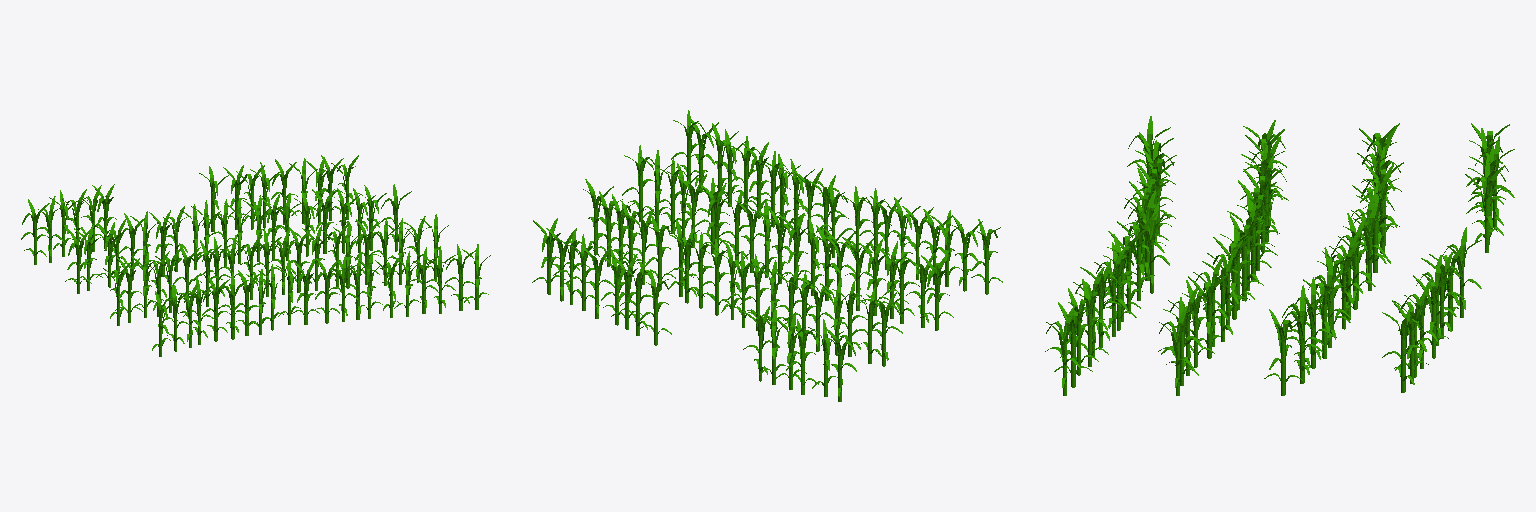
--- Facts derived from the render (not from the file) ---
Views: 3 orthographic renders of the robot side by side, from view 1: azimuth 30°, elevation 25°; view 2: azimuth 150°, elevation 25°; view 3: azimuth 270°, elevation 25°.
Robot: field — 79 links, 78 joints (78 fixed); root link dummy_link; default pose: all joints at 0.
Links seen in each view (by area): view 1: none; view 2: plant_3, plant_75, plant_51; view 3: plant_76, plant_72, plant_75, plant_21, plant_77, plant_78, plant_64, plant_54, plant_61, plant_74, plant_53, plant_60 (+9 smaller).
Boxes of the visible links, x1,y1,x2,y2 form: plant_3: (920, 255, 953, 330); plant_75: (532, 218, 565, 294); plant_51: (611, 254, 642, 329); plant_76: (1264, 309, 1302, 395); plant_72: (1281, 292, 1322, 383); plant_75: (1382, 305, 1425, 392); plant_21: (1465, 165, 1504, 252); plant_77: (1158, 306, 1195, 395); plant_78: (1045, 305, 1082, 395); plant_64: (1292, 277, 1334, 368); plant_54: (1094, 247, 1129, 336); plant_61: (1188, 274, 1228, 358); plant_74: (1054, 302, 1092, 387); plant_53: (1202, 254, 1245, 341); plant_60: (1303, 271, 1342, 358).
Bounding box of the posed robot: 3.31 × 3.18 × 0.6138 m (x, y, z).
Meshes: 1 distinct files referenced, 78 mesh visuals loaded (1 Collada DAE).

The robot description file, URDF, robot "field":
<?xml version="1.0"?> 
<robot name="field"> 
 <!-- auto generated urdf file --> 
 <link name="dummy_link"> 
  <inertial> 
   <origin xyz="0 0 0" /> 
   <mass value="5.0" /> 
   <inertia ixx="0.0" ixy="0.0" ixz="0.0" iyy="0.0" iyz="0.0" izz="0.0" /> 
  </inertial> 
  <visual> 
   <origin xyz="0 0 0" /> 
   <geometry> 
    <box size="0.00 0.00 0.00" /> 
   </geometry> 
  </visual> 
  <collision> 
   <origin xyz="0 0 0" /> 
   <geometry> 
    <box size="0.00 0.00 0.00" /> 
   </geometry> 
  </collision> 
 </link> 
 
 
 <!-- generate plants --> <link name="plant_1">
  <inertial>
   <origin xyz="0 0 0" /> 
   <mass value="5.0" />
   <inertia ixx="0.0" ixy="0.0" ixz="0.0" iyy="0.0" iyz="0.0" izz="0.0" />
  </inertial>
  <visual>
   <origin xyz="0 0 0"/>
   <geometry>
    <mesh filename="package://herbi_gazebo_worlds/ros/meshes/maizeplant.dae"/>
   </geometry>
  </visual>
  <collision>
   <origin xyz="0 0 0.2"/>
   <geometry>
    <cylinder length="0.4" radius="0.02"/>
   </geometry>
  </collision>
 </link>

 <joint name="joint_plant_1" type="fixed">
  <origin xyz="-0.002290 0.364183 0.000000" rpy="0.000000 0.000000 1.571008" />
  <parent link="dummy_link" />
  <child link="plant_1" />
 </joint>


 <link name="plant_2">
  <inertial>
   <origin xyz="0 0 0" /> 
   <mass value="5.0" />
   <inertia ixx="0.0" ixy="0.0" ixz="0.0" iyy="0.0" iyz="0.0" izz="0.0" />
  </inertial>
  <visual>
   <origin xyz="0 0 0"/>
   <geometry>
    <mesh filename="package://herbi_gazebo_worlds/ros/meshes/maizeplant.dae"/>
   </geometry>
  </visual>
  <collision>
   <origin xyz="0 0 0.2"/>
   <geometry>
    <cylinder length="0.4" radius="0.02"/>
   </geometry>
  </collision>
 </link>

 <joint name="joint_plant_2" type="fixed">
  <origin xyz="0.030535 -0.377070 0.000000" rpy="0.000000 0.000000 1.884049" />
  <parent link="dummy_link" />
  <child link="plant_2" />
 </joint>


 <link name="plant_3">
  <inertial>
   <origin xyz="0 0 0" /> 
   <mass value="5.0" />
   <inertia ixx="0.0" ixy="0.0" ixz="0.0" iyy="0.0" iyz="0.0" izz="0.0" />
  </inertial>
  <visual>
   <origin xyz="0 0 0"/>
   <geometry>
    <mesh filename="package://herbi_gazebo_worlds/ros/meshes/maizeplant.dae"/>
   </geometry>
  </visual>
  <collision>
   <origin xyz="0 0 0.2"/>
   <geometry>
    <cylinder length="0.4" radius="0.02"/>
   </geometry>
  </collision>
 </link>

 <joint name="joint_plant_3" type="fixed">
  <origin xyz="0.003315 -1.158200 0.000000" rpy="0.000000 0.000000 0.009769" />
  <parent link="dummy_link" />
  <child link="plant_3" />
 </joint>


 <link name="plant_4">
  <inertial>
   <origin xyz="0 0 0" /> 
   <mass value="5.0" />
   <inertia ixx="0.0" ixy="0.0" ixz="0.0" iyy="0.0" iyz="0.0" izz="0.0" />
  </inertial>
  <visual>
   <origin xyz="0 0 0"/>
   <geometry>
    <mesh filename="package://herbi_gazebo_worlds/ros/meshes/maizeplant.dae"/>
   </geometry>
  </visual>
  <collision>
   <origin xyz="0 0 0.2"/>
   <geometry>
    <cylinder length="0.4" radius="0.02"/>
   </geometry>
  </collision>
 </link>

 <joint name="joint_plant_4" type="fixed">
  <origin xyz="-0.000463 -1.934411 0.000000" rpy="0.000000 0.000000 3.063062" />
  <parent link="dummy_link" />
  <child link="plant_4" />
 </joint>


 <link name="plant_5">
  <inertial>
   <origin xyz="0 0 0" /> 
   <mass value="5.0" />
   <inertia ixx="0.0" ixy="0.0" ixz="0.0" iyy="0.0" iyz="0.0" izz="0.0" />
  </inertial>
  <visual>
   <origin xyz="0 0 0"/>
   <geometry>
    <mesh filename="package://herbi_gazebo_worlds/ros/meshes/maizeplant.dae"/>
   </geometry>
  </visual>
  <collision>
   <origin xyz="0 0 0.2"/>
   <geometry>
    <cylinder length="0.4" radius="0.02"/>
   </geometry>
  </collision>
 </link>

 <joint name="joint_plant_5" type="fixed">
  <origin xyz="0.142994 0.340417 0.000000" rpy="0.000000 0.000000 0.722328" />
  <parent link="dummy_link" />
  <child link="plant_5" />
 </joint>


 <link name="plant_6">
  <inertial>
   <origin xyz="0 0 0" /> 
   <mass value="5.0" />
   <inertia ixx="0.0" ixy="0.0" ixz="0.0" iyy="0.0" iyz="0.0" izz="0.0" />
  </inertial>
  <visual>
   <origin xyz="0 0 0"/>
   <geometry>
    <mesh filename="package://herbi_gazebo_worlds/ros/meshes/maizeplant.dae"/>
   </geometry>
  </visual>
  <collision>
   <origin xyz="0 0 0.2"/>
   <geometry>
    <cylinder length="0.4" radius="0.02"/>
   </geometry>
  </collision>
 </link>

 <joint name="joint_plant_6" type="fixed">
  <origin xyz="0.143202 -0.359106 0.000000" rpy="0.000000 0.000000 2.392607" />
  <parent link="dummy_link" />
  <child link="plant_6" />
 </joint>


 <link name="plant_7">
  <inertial>
   <origin xyz="0 0 0" /> 
   <mass value="5.0" />
   <inertia ixx="0.0" ixy="0.0" ixz="0.0" iyy="0.0" iyz="0.0" izz="0.0" />
  </inertial>
  <visual>
   <origin xyz="0 0 0"/>
   <geometry>
    <mesh filename="package://herbi_gazebo_worlds/ros/meshes/maizeplant.dae"/>
   </geometry>
  </visual>
  <collision>
   <origin xyz="0 0 0.2"/>
   <geometry>
    <cylinder length="0.4" radius="0.02"/>
   </geometry>
  </collision>
 </link>

 <joint name="joint_plant_7" type="fixed">
  <origin xyz="0.121940 -1.143918 0.000000" rpy="0.000000 0.000000 1.971046" />
  <parent link="dummy_link" />
  <child link="plant_7" />
 </joint>


 <link name="plant_8">
  <inertial>
   <origin xyz="0 0 0" /> 
   <mass value="5.0" />
   <inertia ixx="0.0" ixy="0.0" ixz="0.0" iyy="0.0" iyz="0.0" izz="0.0" />
  </inertial>
  <visual>
   <origin xyz="0 0 0"/>
   <geometry>
    <mesh filename="package://herbi_gazebo_worlds/ros/meshes/maizeplant.dae"/>
   </geometry>
  </visual>
  <collision>
   <origin xyz="0 0 0.2"/>
   <geometry>
    <cylinder length="0.4" radius="0.02"/>
   </geometry>
  </collision>
 </link>

 <joint name="joint_plant_8" type="fixed">
  <origin xyz="0.178488 -1.898344 0.000000" rpy="0.000000 0.000000 1.311705" />
  <parent link="dummy_link" />
  <child link="plant_8" />
 </joint>


 <link name="plant_9">
  <inertial>
   <origin xyz="0 0 0" /> 
   <mass value="5.0" />
   <inertia ixx="0.0" ixy="0.0" ixz="0.0" iyy="0.0" iyz="0.0" izz="0.0" />
  </inertial>
  <visual>
   <origin xyz="0 0 0"/>
   <geometry>
    <mesh filename="package://herbi_gazebo_worlds/ros/meshes/maizeplant.dae"/>
   </geometry>
  </visual>
  <collision>
   <origin xyz="0 0 0.2"/>
   <geometry>
    <cylinder length="0.4" radius="0.02"/>
   </geometry>
  </collision>
 </link>

 <joint name="joint_plant_9" type="fixed">
  <origin xyz="0.315813 0.400267 0.000000" rpy="0.000000 0.000000 2.911124" />
  <parent link="dummy_link" />
  <child link="plant_9" />
 </joint>


 <link name="plant_10">
  <inertial>
   <origin xyz="0 0 0" /> 
   <mass value="5.0" />
   <inertia ixx="0.0" ixy="0.0" ixz="0.0" iyy="0.0" iyz="0.0" izz="0.0" />
  </inertial>
  <visual>
   <origin xyz="0 0 0"/>
   <geometry>
    <mesh filename="package://herbi_gazebo_worlds/ros/meshes/maizeplant.dae"/>
   </geometry>
  </visual>
  <collision>
   <origin xyz="0 0 0.2"/>
   <geometry>
    <cylinder length="0.4" radius="0.02"/>
   </geometry>
  </collision>
 </link>

 <joint name="joint_plant_10" type="fixed">
  <origin xyz="0.348682 -0.393159 0.000000" rpy="0.000000 0.000000 2.369821" />
  <parent link="dummy_link" />
  <child link="plant_10" />
 </joint>


 <link name="plant_11">
  <inertial>
   <origin xyz="0 0 0" /> 
   <mass value="5.0" />
   <inertia ixx="0.0" ixy="0.0" ixz="0.0" iyy="0.0" iyz="0.0" izz="0.0" />
  </inertial>
  <visual>
   <origin xyz="0 0 0"/>
   <geometry>
    <mesh filename="package://herbi_gazebo_worlds/ros/meshes/maizeplant.dae"/>
   </geometry>
  </visual>
  <collision>
   <origin xyz="0 0 0.2"/>
   <geometry>
    <cylinder length="0.4" radius="0.02"/>
   </geometry>
  </collision>
 </link>

 <joint name="joint_plant_11" type="fixed">
  <origin xyz="0.303612 -1.128318 0.000000" rpy="0.000000 0.000000 2.517615" />
  <parent link="dummy_link" />
  <child link="plant_11" />
 </joint>


 <link name="plant_12">
  <inertial>
   <origin xyz="0 0 0" /> 
   <mass value="5.0" />
   <inertia ixx="0.0" ixy="0.0" ixz="0.0" iyy="0.0" iyz="0.0" izz="0.0" />
  </inertial>
  <visual>
   <origin xyz="0 0 0"/>
   <geometry>
    <mesh filename="package://herbi_gazebo_worlds/ros/meshes/maizeplant.dae"/>
   </geometry>
  </visual>
  <collision>
   <origin xyz="0 0 0.2"/>
   <geometry>
    <cylinder length="0.4" radius="0.02"/>
   </geometry>
  </collision>
 </link>

 <joint name="joint_plant_12" type="fixed">
  <origin xyz="0.334778 -1.898251 0.000000" rpy="0.000000 0.000000 0.447604" />
  <parent link="dummy_link" />
  <child link="plant_12" />
 </joint>


 <link name="plant_13">
  <inertial>
   <origin xyz="0 0 0" /> 
   <mass value="5.0" />
   <inertia ixx="0.0" ixy="0.0" ixz="0.0" iyy="0.0" iyz="0.0" izz="0.0" />
  </inertial>
  <visual>
   <origin xyz="0 0 0"/>
   <geometry>
    <mesh filename="package://herbi_gazebo_worlds/ros/meshes/maizeplant.dae"/>
   </geometry>
  </visual>
  <collision>
   <origin xyz="0 0 0.2"/>
   <geometry>
    <cylinder length="0.4" radius="0.02"/>
   </geometry>
  </collision>
 </link>

 <joint name="joint_plant_13" type="fixed">
  <origin xyz="0.440604 0.362380 0.000000" rpy="0.000000 0.000000 0.365034" />
  <parent link="dummy_link" />
  <child link="plant_13" />
 </joint>


 <link name="plant_14">
  <inertial>
   <origin xyz="0 0 0" /> 
   <mass value="5.0" />
   <inertia ixx="0.0" ixy="0.0" ixz="0.0" iyy="0.0" iyz="0.0" izz="0.0" />
  </inertial>
  <visual>
   <origin xyz="0 0 0"/>
   <geometry>
    <mesh filename="package://herbi_gazebo_worlds/ros/meshes/maizeplant.dae"/>
   </geometry>
  </visual>
  <collision>
   <origin xyz="0 0 0.2"/>
   <geometry>
    <cylinder length="0.4" radius="0.02"/>
   </geometry>
  </collision>
 </link>

 <joint name="joint_plant_14" type="fixed">
  <origin xyz="0.447165 -0.367612 0.000000" rpy="0.000000 0.000000 0.396790" />
  <parent link="dummy_link" />
  <child link="plant_14" />
 </joint>


 <link name="plant_15">
  <inertial>
   <origin xyz="0 0 0" /> 
   <mass value="5.0" />
   <inertia ixx="0.0" ixy="0.0" ixz="0.0" iyy="0.0" iyz="0.0" izz="0.0" />
  </inertial>
  <visual>
   <origin xyz="0 0 0"/>
   <geometry>
    <mesh filename="package://herbi_gazebo_worlds/ros/meshes/maizeplant.dae"/>
   </geometry>
  </visual>
  <collision>
   <origin xyz="0 0 0.2"/>
   <geometry>
    <cylinder length="0.4" radius="0.02"/>
   </geometry>
  </collision>
 </link>

 <joint name="joint_plant_15" type="fixed">
  <origin xyz="0.417992 -1.175468 0.000000" rpy="0.000000 0.000000 0.284061" />
  <parent link="dummy_link" />
  <child link="plant_15" />
 </joint>


 <link name="plant_16">
  <inertial>
   <origin xyz="0 0 0" /> 
   <mass value="5.0" />
   <inertia ixx="0.0" ixy="0.0" ixz="0.0" iyy="0.0" iyz="0.0" izz="0.0" />
  </inertial>
  <visual>
   <origin xyz="0 0 0"/>
   <geometry>
    <mesh filename="package://herbi_gazebo_worlds/ros/meshes/maizeplant.dae"/>
   </geometry>
  </visual>
  <collision>
   <origin xyz="0 0 0.2"/>
   <geometry>
    <cylinder length="0.4" radius="0.02"/>
   </geometry>
  </collision>
 </link>

 <joint name="joint_plant_16" type="fixed">
  <origin xyz="0.440794 -1.879420 0.000000" rpy="0.000000 0.000000 1.240507" />
  <parent link="dummy_link" />
  <child link="plant_16" />
 </joint>


 <link name="plant_17">
  <inertial>
   <origin xyz="0 0 0" /> 
   <mass value="5.0" />
   <inertia ixx="0.0" ixy="0.0" ixz="0.0" iyy="0.0" iyz="0.0" izz="0.0" />
  </inertial>
  <visual>
   <origin xyz="0 0 0"/>
   <geometry>
    <mesh filename="package://herbi_gazebo_worlds/ros/meshes/maizeplant.dae"/>
   </geometry>
  </visual>
  <collision>
   <origin xyz="0 0 0.2"/>
   <geometry>
    <cylinder length="0.4" radius="0.02"/>
   </geometry>
  </collision>
 </link>

 <joint name="joint_plant_17" type="fixed">
  <origin xyz="0.605624 0.349261 0.000000" rpy="0.000000 0.000000 0.518780" />
  <parent link="dummy_link" />
  <child link="plant_17" />
 </joint>


 <link name="plant_18">
  <inertial>
   <origin xyz="0 0 0" /> 
   <mass value="5.0" />
   <inertia ixx="0.0" ixy="0.0" ixz="0.0" iyy="0.0" iyz="0.0" izz="0.0" />
  </inertial>
  <visual>
   <origin xyz="0 0 0"/>
   <geometry>
    <mesh filename="package://herbi_gazebo_worlds/ros/meshes/maizeplant.dae"/>
   </geometry>
  </visual>
  <collision>
   <origin xyz="0 0 0.2"/>
   <geometry>
    <cylinder length="0.4" radius="0.02"/>
   </geometry>
  </collision>
 </link>

 <joint name="joint_plant_18" type="fixed">
  <origin xyz="0.615291 -0.353090 0.000000" rpy="0.000000 0.000000 1.627948" />
  <parent link="dummy_link" />
  <child link="plant_18" />
 </joint>


 <link name="plant_19">
  <inertial>
   <origin xyz="0 0 0" /> 
   <mass value="5.0" />
   <inertia ixx="0.0" ixy="0.0" ixz="0.0" iyy="0.0" iyz="0.0" izz="0.0" />
  </inertial>
  <visual>
   <origin xyz="0 0 0"/>
   <geometry>
    <mesh filename="package://herbi_gazebo_worlds/ros/meshes/maizeplant.dae"/>
   </geometry>
  </visual>
  <collision>
   <origin xyz="0 0 0.2"/>
   <geometry>
    <cylinder length="0.4" radius="0.02"/>
   </geometry>
  </collision>
 </link>

 <joint name="joint_plant_19" type="fixed">
  <origin xyz="0.557977 -1.145580 0.000000" rpy="0.000000 0.000000 0.175716" />
  <parent link="dummy_link" />
  <child link="plant_19" />
 </joint>


 <link name="plant_20">
  <inertial>
   <origin xyz="0 0 0" /> 
   <mass value="5.0" />
   <inertia ixx="0.0" ixy="0.0" ixz="0.0" iyy="0.0" iyz="0.0" izz="0.0" />
  </inertial>
  <visual>
   <origin xyz="0 0 0"/>
   <geometry>
    <mesh filename="package://herbi_gazebo_worlds/ros/meshes/maizeplant.dae"/>
   </geometry>
  </visual>
  <collision>
   <origin xyz="0 0 0.2"/>
   <geometry>
    <cylinder length="0.4" radius="0.02"/>
   </geometry>
  </collision>
 </link>

 <joint name="joint_plant_20" type="fixed">
  <origin xyz="0.604842 -1.899324 0.000000" rpy="0.000000 0.000000 1.608729" />
  <parent link="dummy_link" />
  <child link="plant_20" />
 </joint>


 <link name="plant_21">
  <inertial>
   <origin xyz="0 0 0" /> 
   <mass value="5.0" />
   <inertia ixx="0.0" ixy="0.0" ixz="0.0" iyy="0.0" iyz="0.0" izz="0.0" />
  </inertial>
  <visual>
   <origin xyz="0 0 0"/>
   <geometry>
    <mesh filename="package://herbi_gazebo_worlds/ros/meshes/maizeplant.dae"/>
   </geometry>
  </visual>
  <collision>
   <origin xyz="0 0 0.2"/>
   <geometry>
    <cylinder length="0.4" radius="0.02"/>
   </geometry>
  </collision>
 </link>

 <joint name="joint_plant_21" type="fixed">
  <origin xyz="0.729188 0.344576 0.000000" rpy="0.000000 0.000000 2.103738" />
  <parent link="dummy_link" />
  <child link="plant_21" />
 </joint>


 <link name="plant_22">
  <inertial>
   <origin xyz="0 0 0" /> 
   <mass value="5.0" />
   <inertia ixx="0.0" ixy="0.0" ixz="0.0" iyy="0.0" iyz="0.0" izz="0.0" />
  </inertial>
  <visual>
   <origin xyz="0 0 0"/>
   <geometry>
    <mesh filename="package://herbi_gazebo_worlds/ros/meshes/maizeplant.dae"/>
   </geometry>
  </visual>
  <collision>
   <origin xyz="0 0 0.2"/>
   <geometry>
    <cylinder length="0.4" radius="0.02"/>
   </geometry>
  </collision>
 </link>

 <joint name="joint_plant_22" type="fixed">
  <origin xyz="0.741063 -0.360834 0.000000" rpy="0.000000 0.000000 2.548968" />
  <parent link="dummy_link" />
  <child link="plant_22" />
 </joint>


 <link name="plant_23">
  <inertial>
   <origin xyz="0 0 0" /> 
   <mass value="5.0" />
   <inertia ixx="0.0" ixy="0.0" ixz="0.0" iyy="0.0" iyz="0.0" izz="0.0" />
  </inertial>
  <visual>
   <origin xyz="0 0 0"/>
   <geometry>
    <mesh filename="package://herbi_gazebo_worlds/ros/meshes/maizeplant.dae"/>
   </geometry>
  </visual>
  <collision>
   <origin xyz="0 0 0.2"/>
   <geometry>
    <cylinder length="0.4" radius="0.02"/>
   </geometry>
  </collision>
 </link>

 <joint name="joint_plant_23" type="fixed">
  <origin xyz="0.721103 -1.169033 0.000000" rpy="0.000000 0.000000 1.622637" />
  <parent link="dummy_link" />
  <child link="plant_23" />
 </joint>


 <link name="plant_24">
  <inertial>
   <origin xyz="0 0 0" /> 
   <mass value="5.0" />
   <inertia ixx="0.0" ixy="0.0" ixz="0.0" iyy="0.0" iyz="0.0" izz="0.0" />
  </inertial>
  <visual>
   <origin xyz="0 0 0"/>
   <geometry>
    <mesh filename="package://herbi_gazebo_worlds/ros/meshes/maizeplant.dae"/>
   </geometry>
  </visual>
  <collision>
   <origin xyz="0 0 0.2"/>
   <geometry>
    <cylinder length="0.4" radius="0.02"/>
   </geometry>
  </collision>
 </link>

 <joint name="joint_plant_24" type="fixed">
  <origin xyz="0.762785 -1.936334 0.000000" rpy="0.000000 0.000000 1.070853" />
  <parent link="dummy_link" />
  <child link="plant_24" />
 </joint>


 <link name="plant_25">
  <inertial>
   <origin xyz="0 0 0" /> 
   <mass value="5.0" />
   <inertia ixx="0.0" ixy="0.0" ixz="0.0" iyy="0.0" iyz="0.0" izz="0.0" />
  </inertial>
  <visual>
   <origin xyz="0 0 0"/>
   <geometry>
    <mesh filename="package://herbi_gazebo_worlds/ros/meshes/maizeplant.dae"/>
   </geometry>
  </visual>
  <collision>
   <origin xyz="0 0 0.2"/>
   <geometry>
    <cylinder length="0.4" radius="0.02"/>
   </geometry>
  </collision>
 </link>

 <joint name="joint_plant_25" type="fixed">
  <origin xyz="0.895786 -0.420655 0.000000" rpy="0.000000 0.000000 2.175998" />
  <parent link="dummy_link" />
  <child link="plant_25" />
 </joint>


 <link name="plant_26">
  <inertial>
   <origin xyz="0 0 0" /> 
   <mass value="5.0" />
   <inertia ixx="0.0" ixy="0.0" ixz="0.0" iyy="0.0" iyz="0.0" izz="0.0" />
  </inertial>
  <visual>
   <origin xyz="0 0 0"/>
   <geometry>
    <mesh filename="package://herbi_gazebo_worlds/ros/meshes/maizeplant.dae"/>
   </geometry>
  </visual>
  <collision>
   <origin xyz="0 0 0.2"/>
   <geometry>
    <cylinder length="0.4" radius="0.02"/>
   </geometry>
  </collision>
 </link>

 <joint name="joint_plant_26" type="fixed">
  <origin xyz="0.915495 -1.209445 0.000000" rpy="0.000000 0.000000 1.559610" />
  <parent link="dummy_link" />
  <child link="plant_26" />
 </joint>


 <link name="plant_27">
  <inertial>
   <origin xyz="0 0 0" /> 
   <mass value="5.0" />
   <inertia ixx="0.0" ixy="0.0" ixz="0.0" iyy="0.0" iyz="0.0" izz="0.0" />
  </inertial>
  <visual>
   <origin xyz="0 0 0"/>
   <geometry>
    <mesh filename="package://herbi_gazebo_worlds/ros/meshes/maizeplant.dae"/>
   </geometry>
  </visual>
  <collision>
   <origin xyz="0 0 0.2"/>
   <geometry>
    <cylinder length="0.4" radius="0.02"/>
   </geometry>
  </collision>
 </link>

 <joint name="joint_plant_27" type="fixed">
  <origin xyz="0.909576 -1.939668 0.000000" rpy="0.000000 0.000000 1.661658" />
  <parent link="dummy_link" />
  <child link="plant_27" />
 </joint>


 <link name="plant_28">
  <inertial>
   <origin xyz="0 0 0" /> 
   <mass value="5.0" />
   <inertia ixx="0.0" ixy="0.0" ixz="0.0" iyy="0.0" iyz="0.0" izz="0.0" />
  </inertial>
  <visual>
   <origin xyz="0 0 0"/>
   <geometry>
    <mesh filename="package://herbi_gazebo_worlds/ros/meshes/maizeplant.dae"/>
   </geometry>
  </visual>
  <collision>
   <origin xyz="0 0 0.2"/>
   <geometry>
    <cylinder length="0.4" radius="0.02"/>
   </geometry>
  </collision>
 </link>

 <joint name="joint_plant_28" type="fixed">
  <origin xyz="1.049773 -0.408582 0.000000" rpy="0.000000 0.000000 0.467684" />
  <parent link="dummy_link" />
  <child link="plant_28" />
 </joint>


 <link name="plant_29">
  <inertial>
   <origin xyz="0 0 0" /> 
   <mass value="5.0" />
   <inertia ixx="0.0" ixy="0.0" ixz="0.0" iyy="0.0" iyz="0.0" izz="0.0" />
  </inertial>
  <visual>
   <origin xyz="0 0 0"/>
   <geometry>
    <mesh filename="package://herbi_gazebo_worlds/ros/meshes/maizeplant.dae"/>
   </geometry>
  </visual>
  <collision>
   <origin xyz="0 0 0.2"/>
   <geometry>
    <cylinder length="0.4" radius="0.02"/>
   </geometry>
  </collision>
 </link>

 <joint name="joint_plant_29" type="fixed">
  <origin xyz="1.020310 -1.200255 0.000000" rpy="0.000000 0.000000 1.246089" />
  <parent link="dummy_link" />
  <child link="plant_29" />
 </joint>


 <link name="plant_30">
  <inertial>
   <origin xyz="0 0 0" /> 
   <mass value="5.0" />
   <inertia ixx="0.0" ixy="0.0" ixz="0.0" iyy="0.0" iyz="0.0" izz="0.0" />
  </inertial>
  <visual>
   <origin xyz="0 0 0"/>
   <geometry>
    <mesh filename="package://herbi_gazebo_worlds/ros/meshes/maizeplant.dae"/>
   </geometry>
  </visual>
  <collision>
   <origin xyz="0 0 0.2"/>
   <geometry>
    <cylinder length="0.4" radius="0.02"/>
   </geometry>
  </collision>
 </link>

 <joint name="joint_plant_30" type="fixed">
  <origin xyz="1.030362 -1.981138 0.000000" rpy="0.000000 0.000000 2.625610" />
  <parent link="dummy_link" />
  <child link="plant_30" />
 </joint>


 <link name="plant_31">
  <inertial>
   <origin xyz="0 0 0" /> 
   <mass value="5.0" />
   <inertia ixx="0.0" ixy="0.0" ixz="0.0" iyy="0.0" iyz="0.0" izz="0.0" />
  </inertial>
  <visual>
   <origin xyz="0 0 0"/>
   <geometry>
    <mesh filename="package://herbi_gazebo_worlds/ros/meshes/maizeplant.dae"/>
   </geometry>
  </visual>
  <collision>
   <origin xyz="0 0 0.2"/>
   <geometry>
    <cylinder length="0.4" radius="0.02"/>
   </geometry>
  </collision>
 </link>

 <joint name="joint_plant_31" type="fixed">
  <origin xyz="1.215169 -0.458499 0.000000" rpy="0.000000 0.000000 2.762630" />
  <parent link="dummy_link" />
  <child link="plant_31" />
 </joint>


 <link name="plant_32">
  <inertial>
   <origin xyz="0 0 0" /> 
   <mass value="5.0" />
   <inertia ixx="0.0" ixy="0.0" ixz="0.0" iyy="0.0" iyz="0.0" izz="0.0" />
  </inertial>
  <visual>
   <origin xyz="0 0 0"/>
   <geometry>
    <mesh filename="package://herbi_gazebo_worlds/ros/meshes/maizeplant.dae"/>
   </geometry>
  </visual>
  <collision>
   <origin xyz="0 0 0.2"/>
   <geometry>
    <cylinder length="0.4" radius="0.02"/>
   </geometry>
  </collision>
 </link>

 <joint name="joint_plant_32" type="fixed">
  <origin xyz="1.165174 -1.233503 0.000000" rpy="0.000000 0.000000 0.814444" />
  <parent link="dummy_link" />
  <child link="plant_32" />
 </joint>


 <link name="plant_33">
  <inertial>
   <origin xyz="0 0 0" /> 
   <mass value="5.0" />
   <inertia ixx="0.0" ixy="0.0" ixz="0.0" iyy="0.0" iyz="0.0" izz="0.0" />
  </inertial>
  <visual>
   <origin xyz="0 0 0"/>
   <geometry>
    <mesh filename="package://herbi_gazebo_worlds/ros/meshes/maizeplant.dae"/>
   </geometry>
  </visual>
  <collision>
   <origin xyz="0 0 0.2"/>
   <geometry>
    <cylinder length="0.4" radius="0.02"/>
   </geometry>
  </collision>
 </link>

 <joint name="joint_plant_33" type="fixed">
  <origin xyz="1.175471 -1.947902 0.000000" rpy="0.000000 0.000000 2.724098" />
  <parent link="dummy_link" />
  <child link="plant_33" />
 </joint>


 <link name="plant_34">
  <inertial>
   <origin xyz="0 0 0" /> 
   <mass value="5.0" />
   <inertia ixx="0.0" ixy="0.0" ixz="0.0" iyy="0.0" iyz="0.0" izz="0.0" />
  </inertial>
  <visual>
   <origin xyz="0 0 0"/>
   <geometry>
    <mesh filename="package://herbi_gazebo_worlds/ros/meshes/maizeplant.dae"/>
   </geometry>
  </visual>
  <collision>
   <origin xyz="0 0 0.2"/>
   <geometry>
    <cylinder length="0.4" radius="0.02"/>
   </geometry>
  </collision>
 </link>

 <joint name="joint_plant_34" type="fixed">
  <origin xyz="1.340194 -0.446954 0.000000" rpy="0.000000 0.000000 2.704223" />
  <parent link="dummy_link" />
  <child link="plant_34" />
 </joint>


 <link name="plant_35">
  <inertial>
   <origin xyz="0 0 0" /> 
   <mass value="5.0" />
   <inertia ixx="0.0" ixy="0.0" ixz="0.0" iyy="0.0" iyz="0.0" izz="0.0" />
  </inertial>
  <visual>
   <origin xyz="0 0 0"/>
   <geometry>
    <mesh filename="package://herbi_gazebo_worlds/ros/meshes/maizeplant.dae"/>
   </geometry>
  </visual>
  <collision>
   <origin xyz="0 0 0.2"/>
   <geometry>
    <cylinder length="0.4" radius="0.02"/>
   </geometry>
  </collision>
 </link>

 <joint name="joint_plant_35" type="fixed">
  <origin xyz="1.339344 -1.270822 0.000000" rpy="0.000000 0.000000 0.149042" />
  <parent link="dummy_link" />
  <child link="plant_35" />
 </joint>


 <link name="plant_36">
  <inertial>
   <origin xyz="0 0 0" /> 
   <mass value="5.0" />
   <inertia ixx="0.0" ixy="0.0" ixz="0.0" iyy="0.0" iyz="0.0" izz="0.0" />
  </inertial>
  <visual>
   <origin xyz="0 0 0"/>
   <geometry>
    <mesh filename="package://herbi_gazebo_worlds/ros/meshes/maizeplant.dae"/>
   </geometry>
  </visual>
  <collision>
   <origin xyz="0 0 0.2"/>
   <geometry>
    <cylinder length="0.4" radius="0.02"/>
   </geometry>
  </collision>
 </link>

 <joint name="joint_plant_36" type="fixed">
  <origin xyz="1.375510 -1.916971 0.000000" rpy="0.000000 0.000000 2.785297" />
  <parent link="dummy_link" />
  <child link="plant_36" />
 </joint>


 <link name="plant_37">
  <inertial>
   <origin xyz="0 0 0" /> 
   <mass value="5.0" />
   <inertia ixx="0.0" ixy="0.0" ixz="0.0" iyy="0.0" iyz="0.0" izz="0.0" />
  </inertial>
  <visual>
   <origin xyz="0 0 0"/>
   <geometry>
    <mesh filename="package://herbi_gazebo_worlds/ros/meshes/maizeplant.dae"/>
   </geometry>
  </visual>
  <collision>
   <origin xyz="0 0 0.2"/>
   <geometry>
    <cylinder length="0.4" radius="0.02"/>
   </geometry>
  </collision>
 </link>

 <joint name="joint_plant_37" type="fixed">
  <origin xyz="1.490331 -0.533503 0.000000" rpy="0.000000 0.000000 0.953732" />
  <parent link="dummy_link" />
  <child link="plant_37" />
 </joint>


 <link name="plant_38">
  <inertial>
   <origin xyz="0 0 0" /> 
   <mass value="5.0" />
   <inertia ixx="0.0" ixy="0.0" ixz="0.0" iyy="0.0" iyz="0.0" izz="0.0" />
  </inertial>
  <visual>
   <origin xyz="0 0 0"/>
   <geometry>
    <mesh filename="package://herbi_gazebo_worlds/ros/meshes/maizeplant.dae"/>
   </geometry>
  </visual>
  <collision>
   <origin xyz="0 0 0.2"/>
   <geometry>
    <cylinder length="0.4" radius="0.02"/>
   </geometry>
  </collision>
 </link>

 <joint name="joint_plant_38" type="fixed">
  <origin xyz="1.498424 -1.293199 0.000000" rpy="0.000000 0.000000 1.235331" />
  <parent link="dummy_link" />
  <child link="plant_38" />
 </joint>


 <link name="plant_39">
  <inertial>
   <origin xyz="0 0 0" /> 
   <mass value="5.0" />
   <inertia ixx="0.0" ixy="0.0" ixz="0.0" iyy="0.0" iyz="0.0" izz="0.0" />
  </inertial>
  <visual>
   <origin xyz="0 0 0"/>
   <geometry>
    <mesh filename="package://herbi_gazebo_worlds/ros/meshes/maizeplant.dae"/>
   </geometry>
  </visual>
  <collision>
   <origin xyz="0 0 0.2"/>
   <geometry>
    <cylinder length="0.4" radius="0.02"/>
   </geometry>
  </collision>
 </link>

 <joint name="joint_plant_39" type="fixed">
  <origin xyz="1.496619 -2.005838 0.000000" rpy="0.000000 0.000000 2.068800" />
  <parent link="dummy_link" />
  <child link="plant_39" />
 </joint>


 <link name="plant_40">
  <inertial>
   <origin xyz="0 0 0" /> 
   <mass value="5.0" />
   <inertia ixx="0.0" ixy="0.0" ixz="0.0" iyy="0.0" iyz="0.0" izz="0.0" />
  </inertial>
  <visual>
   <origin xyz="0 0 0"/>
   <geometry>
    <mesh filename="package://herbi_gazebo_worlds/ros/meshes/maizeplant.dae"/>
   </geometry>
  </visual>
  <collision>
   <origin xyz="0 0 0.2"/>
   <geometry>
    <cylinder length="0.4" radius="0.02"/>
   </geometry>
  </collision>
 </link>

 <joint name="joint_plant_40" type="fixed">
  <origin xyz="1.633504 -0.544368 0.000000" rpy="0.000000 0.000000 2.683734" />
  <parent link="dummy_link" />
  <child link="plant_40" />
 </joint>


 <link name="plant_41">
  <inertial>
   <origin xyz="0 0 0" /> 
   <mass value="5.0" />
   <inertia ixx="0.0" ixy="0.0" ixz="0.0" iyy="0.0" iyz="0.0" izz="0.0" />
  </inertial>
  <visual>
   <origin xyz="0 0 0"/>
   <geometry>
    <mesh filename="package://herbi_gazebo_worlds/ros/meshes/maizeplant.dae"/>
   </geometry>
  </visual>
  <collision>
   <origin xyz="0 0 0.2"/>
   <geometry>
    <cylinder length="0.4" radius="0.02"/>
   </geometry>
  </collision>
 </link>

 <joint name="joint_plant_41" type="fixed">
  <origin xyz="1.646429 -1.338775 0.000000" rpy="0.000000 0.000000 0.632115" />
  <parent link="dummy_link" />
  <child link="plant_41" />
 </joint>


 <link name="plant_42">
  <inertial>
   <origin xyz="0 0 0" /> 
   <mass value="5.0" />
   <inertia ixx="0.0" ixy="0.0" ixz="0.0" iyy="0.0" iyz="0.0" izz="0.0" />
  </inertial>
  <visual>
   <origin xyz="0 0 0"/>
   <geometry>
    <mesh filename="package://herbi_gazebo_worlds/ros/meshes/maizeplant.dae"/>
   </geometry>
  </visual>
  <collision>
   <origin xyz="0 0 0.2"/>
   <geometry>
    <cylinder length="0.4" radius="0.02"/>
   </geometry>
  </collision>
 </link>

 <joint name="joint_plant_42" type="fixed">
  <origin xyz="1.680919 -2.071221 0.000000" rpy="0.000000 0.000000 1.835863" />
  <parent link="dummy_link" />
  <child link="plant_42" />
 </joint>


 <link name="plant_43">
  <inertial>
   <origin xyz="0 0 0" /> 
   <mass value="5.0" />
   <inertia ixx="0.0" ixy="0.0" ixz="0.0" iyy="0.0" iyz="0.0" izz="0.0" />
  </inertial>
  <visual>
   <origin xyz="0 0 0"/>
   <geometry>
    <mesh filename="package://herbi_gazebo_worlds/ros/meshes/maizeplant.dae"/>
   </geometry>
  </visual>
  <collision>
   <origin xyz="0 0 0.2"/>
   <geometry>
    <cylinder length="0.4" radius="0.02"/>
   </geometry>
  </collision>
 </link>

 <joint name="joint_plant_43" type="fixed">
  <origin xyz="1.771860 0.177049 0.000000" rpy="0.000000 0.000000 2.928560" />
  <parent link="dummy_link" />
  <child link="plant_43" />
 </joint>


 <link name="plant_44">
  <inertial>
   <origin xyz="0 0 0" /> 
   <mass value="5.0" />
   <inertia ixx="0.0" ixy="0.0" ixz="0.0" iyy="0.0" iyz="0.0" izz="0.0" />
  </inertial>
  <visual>
   <origin xyz="0 0 0"/>
   <geometry>
    <mesh filename="package://herbi_gazebo_worlds/ros/meshes/maizeplant.dae"/>
   </geometry>
  </visual>
  <collision>
   <origin xyz="0 0 0.2"/>
   <geometry>
    <cylinder length="0.4" radius="0.02"/>
   </geometry>
  </collision>
 </link>

 <joint name="joint_plant_44" type="fixed">
  <origin xyz="1.810527 -0.590530 0.000000" rpy="0.000000 0.000000 2.561231" />
  <parent link="dummy_link" />
  <child link="plant_44" />
 </joint>


 <link name="plant_45">
  <inertial>
   <origin xyz="0 0 0" /> 
   <mass value="5.0" />
   <inertia ixx="0.0" ixy="0.0" ixz="0.0" iyy="0.0" iyz="0.0" izz="0.0" />
  </inertial>
  <visual>
   <origin xyz="0 0 0"/>
   <geometry>
    <mesh filename="package://herbi_gazebo_worlds/ros/meshes/maizeplant.dae"/>
   </geometry>
  </visual>
  <collision>
   <origin xyz="0 0 0.2"/>
   <geometry>
    <cylinder length="0.4" radius="0.02"/>
   </geometry>
  </collision>
 </link>

 <joint name="joint_plant_45" type="fixed">
  <origin xyz="1.793773 -1.360080 0.000000" rpy="0.000000 0.000000 1.773623" />
  <parent link="dummy_link" />
  <child link="plant_45" />
 </joint>


 <link name="plant_46">
  <inertial>
   <origin xyz="0 0 0" /> 
   <mass value="5.0" />
   <inertia ixx="0.0" ixy="0.0" ixz="0.0" iyy="0.0" iyz="0.0" izz="0.0" />
  </inertial>
  <visual>
   <origin xyz="0 0 0"/>
   <geometry>
    <mesh filename="package://herbi_gazebo_worlds/ros/meshes/maizeplant.dae"/>
   </geometry>
  </visual>
  <collision>
   <origin xyz="0 0 0.2"/>
   <geometry>
    <cylinder length="0.4" radius="0.02"/>
   </geometry>
  </collision>
 </link>

 <joint name="joint_plant_46" type="fixed">
  <origin xyz="1.828290 -2.119134 0.000000" rpy="0.000000 0.000000 0.910368" />
  <parent link="dummy_link" />
  <child link="plant_46" />
 </joint>


 <link name="plant_47">
  <inertial>
   <origin xyz="0 0 0" /> 
   <mass value="5.0" />
   <inertia ixx="0.0" ixy="0.0" ixz="0.0" iyy="0.0" iyz="0.0" izz="0.0" />
  </inertial>
  <visual>
   <origin xyz="0 0 0"/>
   <geometry>
    <mesh filename="package://herbi_gazebo_worlds/ros/meshes/maizeplant.dae"/>
   </geometry>
  </visual>
  <collision>
   <origin xyz="0 0 0.2"/>
   <geometry>
    <cylinder length="0.4" radius="0.02"/>
   </geometry>
  </collision>
 </link>

 <joint name="joint_plant_47" type="fixed">
  <origin xyz="1.978488 0.097389 0.000000" rpy="0.000000 0.000000 2.253783" />
  <parent link="dummy_link" />
  <child link="plant_47" />
 </joint>


 <link name="plant_48">
  <inertial>
   <origin xyz="0 0 0" /> 
   <mass value="5.0" />
   <inertia ixx="0.0" ixy="0.0" ixz="0.0" iyy="0.0" iyz="0.0" izz="0.0" />
  </inertial>
  <visual>
   <origin xyz="0 0 0"/>
   <geometry>
    <mesh filename="package://herbi_gazebo_worlds/ros/meshes/maizeplant.dae"/>
   </geometry>
  </visual>
  <collision>
   <origin xyz="0 0 0.2"/>
   <geometry>
    <cylinder length="0.4" radius="0.02"/>
   </geometry>
  </collision>
 </link>

 <joint name="joint_plant_48" type="fixed">
  <origin xyz="1.949855 -0.619740 0.000000" rpy="0.000000 0.000000 2.266340" />
  <parent link="dummy_link" />
  <child link="plant_48" />
 </joint>


 <link name="plant_49">
  <inertial>
   <origin xyz="0 0 0" /> 
   <mass value="5.0" />
   <inertia ixx="0.0" ixy="0.0" ixz="0.0" iyy="0.0" iyz="0.0" izz="0.0" />
  </inertial>
  <visual>
   <origin xyz="0 0 0"/>
   <geometry>
    <mesh filename="package://herbi_gazebo_worlds/ros/meshes/maizeplant.dae"/>
   </geometry>
  </visual>
  <collision>
   <origin xyz="0 0 0.2"/>
   <geometry>
    <cylinder length="0.4" radius="0.02"/>
   </geometry>
  </collision>
 </link>

 <joint name="joint_plant_49" type="fixed">
  <origin xyz="1.954224 -1.404578 0.000000" rpy="0.000000 0.000000 2.343903" />
  <parent link="dummy_link" />
  <child link="plant_49" />
 </joint>


 <link name="plant_50">
  <inertial>
   <origin xyz="0 0 0" /> 
   <mass value="5.0" />
   <inertia ixx="0.0" ixy="0.0" ixz="0.0" iyy="0.0" iyz="0.0" izz="0.0" />
  </inertial>
  <visual>
   <origin xyz="0 0 0"/>
   <geometry>
    <mesh filename="package://herbi_gazebo_worlds/ros/meshes/maizeplant.dae"/>
   </geometry>
  </visual>
  <collision>
   <origin xyz="0 0 0.2"/>
   <geometry>
    <cylinder length="0.4" radius="0.02"/>
   </geometry>
  </collision>
 </link>

 <joint name="joint_plant_50" type="fixed">
  <origin xyz="1.967958 -2.142477 0.000000" rpy="0.000000 0.000000 0.804720" />
  <parent link="dummy_link" />
  <child link="plant_50" />
 </joint>


 <link name="plant_51">
  <inertial>
   <origin xyz="0 0 0" /> 
   <mass value="5.0" />
   <inertia ixx="0.0" ixy="0.0" ixz="0.0" iyy="0.0" iyz="0.0" izz="0.0" />
  </inertial>
  <visual>
   <origin xyz="0 0 0"/>
   <geometry>
    <mesh filename="package://herbi_gazebo_worlds/ros/meshes/maizeplant.dae"/>
   </geometry>
  </visual>
  <collision>
   <origin xyz="0 0 0.2"/>
   <geometry>
    <cylinder length="0.4" radius="0.02"/>
   </geometry>
  </collision>
 </link>

 <joint name="joint_plant_51" type="fixed">
  <origin xyz="2.108258 0.041533 0.000000" rpy="0.000000 0.000000 0.032421" />
  <parent link="dummy_link" />
  <child link="plant_51" />
 </joint>


 <link name="plant_52">
  <inertial>
   <origin xyz="0 0 0" /> 
   <mass value="5.0" />
   <inertia ixx="0.0" ixy="0.0" ixz="0.0" iyy="0.0" iyz="0.0" izz="0.0" />
  </inertial>
  <visual>
   <origin xyz="0 0 0"/>
   <geometry>
    <mesh filename="package://herbi_gazebo_worlds/ros/meshes/maizeplant.dae"/>
   </geometry>
  </visual>
  <collision>
   <origin xyz="0 0 0.2"/>
   <geometry>
    <cylinder length="0.4" radius="0.02"/>
   </geometry>
  </collision>
 </link>

 <joint name="joint_plant_52" type="fixed">
  <origin xyz="2.051904 -0.700386 0.000000" rpy="0.000000 0.000000 0.856763" />
  <parent link="dummy_link" />
  <child link="plant_52" />
 </joint>


 <link name="plant_53">
  <inertial>
   <origin xyz="0 0 0" /> 
   <mass value="5.0" />
   <inertia ixx="0.0" ixy="0.0" ixz="0.0" iyy="0.0" iyz="0.0" izz="0.0" />
  </inertial>
  <visual>
   <origin xyz="0 0 0"/>
   <geometry>
    <mesh filename="package://herbi_gazebo_worlds/ros/meshes/maizeplant.dae"/>
   </geometry>
  </visual>
  <collision>
   <origin xyz="0 0 0.2"/>
   <geometry>
    <cylinder length="0.4" radius="0.02"/>
   </geometry>
  </collision>
 </link>

 <joint name="joint_plant_53" type="fixed">
  <origin xyz="2.155126 -1.437046 0.000000" rpy="0.000000 0.000000 0.055932" />
  <parent link="dummy_link" />
  <child link="plant_53" />
 </joint>


 <link name="plant_54">
  <inertial>
   <origin xyz="0 0 0" /> 
   <mass value="5.0" />
   <inertia ixx="0.0" ixy="0.0" ixz="0.0" iyy="0.0" iyz="0.0" izz="0.0" />
  </inertial>
  <visual>
   <origin xyz="0 0 0"/>
   <geometry>
    <mesh filename="package://herbi_gazebo_worlds/ros/meshes/maizeplant.dae"/>
   </geometry>
  </visual>
  <collision>
   <origin xyz="0 0 0.2"/>
   <geometry>
    <cylinder length="0.4" radius="0.02"/>
   </geometry>
  </collision>
 </link>

 <joint name="joint_plant_54" type="fixed">
  <origin xyz="2.069392 -2.176052 0.000000" rpy="0.000000 0.000000 2.518597" />
  <parent link="dummy_link" />
  <child link="plant_54" />
 </joint>


 <link name="plant_55">
  <inertial>
   <origin xyz="0 0 0" /> 
   <mass value="5.0" />
   <inertia ixx="0.0" ixy="0.0" ixz="0.0" iyy="0.0" iyz="0.0" izz="0.0" />
  </inertial>
  <visual>
   <origin xyz="0 0 0"/>
   <geometry>
    <mesh filename="package://herbi_gazebo_worlds/ros/meshes/maizeplant.dae"/>
   </geometry>
  </visual>
  <collision>
   <origin xyz="0 0 0.2"/>
   <geometry>
    <cylinder length="0.4" radius="0.02"/>
   </geometry>
  </collision>
 </link>

 <joint name="joint_plant_55" type="fixed">
  <origin xyz="2.219013 0.007223 0.000000" rpy="0.000000 0.000000 2.943318" />
  <parent link="dummy_link" />
  <child link="plant_55" />
 </joint>


 <link name="plant_56">
  <inertial>
   <origin xyz="0 0 0" /> 
   <mass value="5.0" />
   <inertia ixx="0.0" ixy="0.0" ixz="0.0" iyy="0.0" iyz="0.0" izz="0.0" />
  </inertial>
  <visual>
   <origin xyz="0 0 0"/>
   <geometry>
    <mesh filename="package://herbi_gazebo_worlds/ros/meshes/maizeplant.dae"/>
   </geometry>
  </visual>
  <collision>
   <origin xyz="0 0 0.2"/>
   <geometry>
    <cylinder length="0.4" radius="0.02"/>
   </geometry>
  </collision>
 </link>

 <joint name="joint_plant_56" type="fixed">
  <origin xyz="2.252706 -0.717389 0.000000" rpy="0.000000 0.000000 3.071920" />
  <parent link="dummy_link" />
  <child link="plant_56" />
 </joint>


 <link name="plant_57">
  <inertial>
   <origin xyz="0 0 0" /> 
   <mass value="5.0" />
   <inertia ixx="0.0" ixy="0.0" ixz="0.0" iyy="0.0" iyz="0.0" izz="0.0" />
  </inertial>
  <visual>
   <origin xyz="0 0 0"/>
   <geometry>
    <mesh filename="package://herbi_gazebo_worlds/ros/meshes/maizeplant.dae"/>
   </geometry>
  </visual>
  <collision>
   <origin xyz="0 0 0.2"/>
   <geometry>
    <cylinder length="0.4" radius="0.02"/>
   </geometry>
  </collision>
 </link>

 <joint name="joint_plant_57" type="fixed">
  <origin xyz="2.229628 -1.507233 0.000000" rpy="0.000000 0.000000 2.608065" />
  <parent link="dummy_link" />
  <child link="plant_57" />
 </joint>


 <link name="plant_58">
  <inertial>
   <origin xyz="0 0 0" /> 
   <mass value="5.0" />
   <inertia ixx="0.0" ixy="0.0" ixz="0.0" iyy="0.0" iyz="0.0" izz="0.0" />
  </inertial>
  <visual>
   <origin xyz="0 0 0"/>
   <geometry>
    <mesh filename="package://herbi_gazebo_worlds/ros/meshes/maizeplant.dae"/>
   </geometry>
  </visual>
  <collision>
   <origin xyz="0 0 0.2"/>
   <geometry>
    <cylinder length="0.4" radius="0.02"/>
   </geometry>
  </collision>
 </link>

 <joint name="joint_plant_58" type="fixed">
  <origin xyz="2.249505 -2.264001 0.000000" rpy="0.000000 0.000000 0.042375" />
  <parent link="dummy_link" />
  <child link="plant_58" />
 </joint>


 <link name="plant_59">
  <inertial>
   <origin xyz="0 0 0" /> 
   <mass value="5.0" />
   <inertia ixx="0.0" ixy="0.0" ixz="0.0" iyy="0.0" iyz="0.0" izz="0.0" />
  </inertial>
  <visual>
   <origin xyz="0 0 0"/>
   <geometry>
    <mesh filename="package://herbi_gazebo_worlds/ros/meshes/maizeplant.dae"/>
   </geometry>
  </visual>
  <collision>
   <origin xyz="0 0 0.2"/>
   <geometry>
    <cylinder length="0.4" radius="0.02"/>
   </geometry>
  </collision>
 </link>

 <joint name="joint_plant_59" type="fixed">
  <origin xyz="2.414676 -0.014260 0.000000" rpy="0.000000 0.000000 1.718394" />
  <parent link="dummy_link" />
  <child link="plant_59" />
 </joint>


 <link name="plant_60">
  <inertial>
   <origin xyz="0 0 0" /> 
   <mass value="5.0" />
   <inertia ixx="0.0" ixy="0.0" ixz="0.0" iyy="0.0" iyz="0.0" izz="0.0" />
  </inertial>
  <visual>
   <origin xyz="0 0 0"/>
   <geometry>
    <mesh filename="package://herbi_gazebo_worlds/ros/meshes/maizeplant.dae"/>
   </geometry>
  </visual>
  <collision>
   <origin xyz="0 0 0.2"/>
   <geometry>
    <cylinder length="0.4" radius="0.02"/>
   </geometry>
  </collision>
 </link>

 <joint name="joint_plant_60" type="fixed">
  <origin xyz="2.420728 -0.751255 0.000000" rpy="0.000000 0.000000 2.056919" />
  <parent link="dummy_link" />
  <child link="plant_60" />
 </joint>


 <link name="plant_61">
  <inertial>
   <origin xyz="0 0 0" /> 
   <mass value="5.0" />
   <inertia ixx="0.0" ixy="0.0" ixz="0.0" iyy="0.0" iyz="0.0" izz="0.0" />
  </inertial>
  <visual>
   <origin xyz="0 0 0"/>
   <geometry>
    <mesh filename="package://herbi_gazebo_worlds/ros/meshes/maizeplant.dae"/>
   </geometry>
  </visual>
  <collision>
   <origin xyz="0 0 0.2"/>
   <geometry>
    <cylinder length="0.4" radius="0.02"/>
   </geometry>
  </collision>
 </link>

 <joint name="joint_plant_61" type="fixed">
  <origin xyz="2.418303 -1.529892 0.000000" rpy="0.000000 0.000000 1.812963" />
  <parent link="dummy_link" />
  <child link="plant_61" />
 </joint>


 <link name="plant_62">
  <inertial>
   <origin xyz="0 0 0" /> 
   <mass value="5.0" />
   <inertia ixx="0.0" ixy="0.0" ixz="0.0" iyy="0.0" iyz="0.0" izz="0.0" />
  </inertial>
  <visual>
   <origin xyz="0 0 0"/>
   <geometry>
    <mesh filename="package://herbi_gazebo_worlds/ros/meshes/maizeplant.dae"/>
   </geometry>
  </visual>
  <collision>
   <origin xyz="0 0 0.2"/>
   <geometry>
    <cylinder length="0.4" radius="0.02"/>
   </geometry>
  </collision>
 </link>

 <joint name="joint_plant_62" type="fixed">
  <origin xyz="2.393253 -2.315285 0.000000" rpy="0.000000 0.000000 2.574580" />
  <parent link="dummy_link" />
  <child link="plant_62" />
 </joint>


 <link name="plant_63">
  <inertial>
   <origin xyz="0 0 0" /> 
   <mass value="5.0" />
   <inertia ixx="0.0" ixy="0.0" ixz="0.0" iyy="0.0" iyz="0.0" izz="0.0" />
  </inertial>
  <visual>
   <origin xyz="0 0 0"/>
   <geometry>
    <mesh filename="package://herbi_gazebo_worlds/ros/meshes/maizeplant.dae"/>
   </geometry>
  </visual>
  <collision>
   <origin xyz="0 0 0.2"/>
   <geometry>
    <cylinder length="0.4" radius="0.02"/>
   </geometry>
  </collision>
 </link>

 <joint name="joint_plant_63" type="fixed">
  <origin xyz="2.578840 -0.092732 0.000000" rpy="0.000000 0.000000 2.652230" />
  <parent link="dummy_link" />
  <child link="plant_63" />
 </joint>


 <link name="plant_64">
  <inertial>
   <origin xyz="0 0 0" /> 
   <mass value="5.0" />
   <inertia ixx="0.0" ixy="0.0" ixz="0.0" iyy="0.0" iyz="0.0" izz="0.0" />
  </inertial>
  <visual>
   <origin xyz="0 0 0"/>
   <geometry>
    <mesh filename="package://herbi_gazebo_worlds/ros/meshes/maizeplant.dae"/>
   </geometry>
  </visual>
  <collision>
   <origin xyz="0 0 0.2"/>
   <geometry>
    <cylinder length="0.4" radius="0.02"/>
   </geometry>
  </collision>
 </link>

 <joint name="joint_plant_64" type="fixed">
  <origin xyz="2.575855 -0.828115 0.000000" rpy="0.000000 0.000000 3.132083" />
  <parent link="dummy_link" />
  <child link="plant_64" />
 </joint>


 <link name="plant_65">
  <inertial>
   <origin xyz="0 0 0" /> 
   <mass value="5.0" />
   <inertia ixx="0.0" ixy="0.0" ixz="0.0" iyy="0.0" iyz="0.0" izz="0.0" />
  </inertial>
  <visual>
   <origin xyz="0 0 0"/>
   <geometry>
    <mesh filename="package://herbi_gazebo_worlds/ros/meshes/maizeplant.dae"/>
   </geometry>
  </visual>
  <collision>
   <origin xyz="0 0 0.2"/>
   <geometry>
    <cylinder length="0.4" radius="0.02"/>
   </geometry>
  </collision>
 </link>

 <joint name="joint_plant_65" type="fixed">
  <origin xyz="2.560420 -1.620914 0.000000" rpy="0.000000 0.000000 0.966030" />
  <parent link="dummy_link" />
  <child link="plant_65" />
 </joint>


 <link name="plant_66">
  <inertial>
   <origin xyz="0 0 0" /> 
   <mass value="5.0" />
   <inertia ixx="0.0" ixy="0.0" ixz="0.0" iyy="0.0" iyz="0.0" izz="0.0" />
  </inertial>
  <visual>
   <origin xyz="0 0 0"/>
   <geometry>
    <mesh filename="package://herbi_gazebo_worlds/ros/meshes/maizeplant.dae"/>
   </geometry>
  </visual>
  <collision>
   <origin xyz="0 0 0.2"/>
   <geometry>
    <cylinder length="0.4" radius="0.02"/>
   </geometry>
  </collision>
 </link>

 <joint name="joint_plant_66" type="fixed">
  <origin xyz="2.555340 -2.336241 0.000000" rpy="0.000000 0.000000 0.863388" />
  <parent link="dummy_link" />
  <child link="plant_66" />
 </joint>


 <link name="plant_67">
  <inertial>
   <origin xyz="0 0 0" /> 
   <mass value="5.0" />
   <inertia ixx="0.0" ixy="0.0" ixz="0.0" iyy="0.0" iyz="0.0" izz="0.0" />
  </inertial>
  <visual>
   <origin xyz="0 0 0"/>
   <geometry>
    <mesh filename="package://herbi_gazebo_worlds/ros/meshes/maizeplant.dae"/>
   </geometry>
  </visual>
  <collision>
   <origin xyz="0 0 0.2"/>
   <geometry>
    <cylinder length="0.4" radius="0.02"/>
   </geometry>
  </collision>
 </link>

 <joint name="joint_plant_67" type="fixed">
  <origin xyz="2.718541 -0.140888 0.000000" rpy="0.000000 0.000000 2.392356" />
  <parent link="dummy_link" />
  <child link="plant_67" />
 </joint>


 <link name="plant_68">
  <inertial>
   <origin xyz="0 0 0" /> 
   <mass value="5.0" />
   <inertia ixx="0.0" ixy="0.0" ixz="0.0" iyy="0.0" iyz="0.0" izz="0.0" />
  </inertial>
  <visual>
   <origin xyz="0 0 0"/>
   <geometry>
    <mesh filename="package://herbi_gazebo_worlds/ros/meshes/maizeplant.dae"/>
   </geometry>
  </visual>
  <collision>
   <origin xyz="0 0 0.2"/>
   <geometry>
    <cylinder length="0.4" radius="0.02"/>
   </geometry>
  </collision>
 </link>

 <joint name="joint_plant_68" type="fixed">
  <origin xyz="2.704975 -0.897455 0.000000" rpy="0.000000 0.000000 3.127332" />
  <parent link="dummy_link" />
  <child link="plant_68" />
 </joint>


 <link name="plant_69">
  <inertial>
   <origin xyz="0 0 0" /> 
   <mass value="5.0" />
   <inertia ixx="0.0" ixy="0.0" ixz="0.0" iyy="0.0" iyz="0.0" izz="0.0" />
  </inertial>
  <visual>
   <origin xyz="0 0 0"/>
   <geometry>
    <mesh filename="package://herbi_gazebo_worlds/ros/meshes/maizeplant.dae"/>
   </geometry>
  </visual>
  <collision>
   <origin xyz="0 0 0.2"/>
   <geometry>
    <cylinder length="0.4" radius="0.02"/>
   </geometry>
  </collision>
 </link>

 <joint name="joint_plant_69" type="fixed">
  <origin xyz="2.688757 -1.674822 0.000000" rpy="0.000000 0.000000 2.579460" />
  <parent link="dummy_link" />
  <child link="plant_69" />
 </joint>


 <link name="plant_70">
  <inertial>
   <origin xyz="0 0 0" /> 
   <mass value="5.0" />
   <inertia ixx="0.0" ixy="0.0" ixz="0.0" iyy="0.0" iyz="0.0" izz="0.0" />
  </inertial>
  <visual>
   <origin xyz="0 0 0"/>
   <geometry>
    <mesh filename="package://herbi_gazebo_worlds/ros/meshes/maizeplant.dae"/>
   </geometry>
  </visual>
  <collision>
   <origin xyz="0 0 0.2"/>
   <geometry>
    <cylinder length="0.4" radius="0.02"/>
   </geometry>
  </collision>
 </link>

 <joint name="joint_plant_70" type="fixed">
  <origin xyz="2.686862 -2.409397 0.000000" rpy="0.000000 0.000000 1.049432" />
  <parent link="dummy_link" />
  <child link="plant_70" />
 </joint>


 <link name="plant_71">
  <inertial>
   <origin xyz="0 0 0" /> 
   <mass value="5.0" />
   <inertia ixx="0.0" ixy="0.0" ixz="0.0" iyy="0.0" iyz="0.0" izz="0.0" />
  </inertial>
  <visual>
   <origin xyz="0 0 0"/>
   <geometry>
    <mesh filename="package://herbi_gazebo_worlds/ros/meshes/maizeplant.dae"/>
   </geometry>
  </visual>
  <collision>
   <origin xyz="0 0 0.2"/>
   <geometry>
    <cylinder length="0.4" radius="0.02"/>
   </geometry>
  </collision>
 </link>

 <joint name="joint_plant_71" type="fixed">
  <origin xyz="2.818095 -0.160594 0.000000" rpy="0.000000 0.000000 1.672280" />
  <parent link="dummy_link" />
  <child link="plant_71" />
 </joint>


 <link name="plant_72">
  <inertial>
   <origin xyz="0 0 0" /> 
   <mass value="5.0" />
   <inertia ixx="0.0" ixy="0.0" ixz="0.0" iyy="0.0" iyz="0.0" izz="0.0" />
  </inertial>
  <visual>
   <origin xyz="0 0 0"/>
   <geometry>
    <mesh filename="package://herbi_gazebo_worlds/ros/meshes/maizeplant.dae"/>
   </geometry>
  </visual>
  <collision>
   <origin xyz="0 0 0.2"/>
   <geometry>
    <cylinder length="0.4" radius="0.02"/>
   </geometry>
  </collision>
 </link>

 <joint name="joint_plant_72" type="fixed">
  <origin xyz="2.822882 -0.902234 0.000000" rpy="0.000000 0.000000 3.128679" />
  <parent link="dummy_link" />
  <child link="plant_72" />
 </joint>


 <link name="plant_73">
  <inertial>
   <origin xyz="0 0 0" /> 
   <mass value="5.0" />
   <inertia ixx="0.0" ixy="0.0" ixz="0.0" iyy="0.0" iyz="0.0" izz="0.0" />
  </inertial>
  <visual>
   <origin xyz="0 0 0"/>
   <geometry>
    <mesh filename="package://herbi_gazebo_worlds/ros/meshes/maizeplant.dae"/>
   </geometry>
  </visual>
  <collision>
   <origin xyz="0 0 0.2"/>
   <geometry>
    <cylinder length="0.4" radius="0.02"/>
   </geometry>
  </collision>
 </link>

 <joint name="joint_plant_73" type="fixed">
  <origin xyz="2.853339 -1.714876 0.000000" rpy="0.000000 0.000000 0.566081" />
  <parent link="dummy_link" />
  <child link="plant_73" />
 </joint>


 <link name="plant_74">
  <inertial>
   <origin xyz="0 0 0" /> 
   <mass value="5.0" />
   <inertia ixx="0.0" ixy="0.0" ixz="0.0" iyy="0.0" iyz="0.0" izz="0.0" />
  </inertial>
  <visual>
   <origin xyz="0 0 0"/>
   <geometry>
    <mesh filename="package://herbi_gazebo_worlds/ros/meshes/maizeplant.dae"/>
   </geometry>
  </visual>
  <collision>
   <origin xyz="0 0 0.2"/>
   <geometry>
    <cylinder length="0.4" radius="0.02"/>
   </geometry>
  </collision>
 </link>

 <joint name="joint_plant_74" type="fixed">
  <origin xyz="2.882391 -2.448615 0.000000" rpy="0.000000 0.000000 1.310826" />
  <parent link="dummy_link" />
  <child link="plant_74" />
 </joint>


 <link name="plant_75">
  <inertial>
   <origin xyz="0 0 0" /> 
   <mass value="5.0" />
   <inertia ixx="0.0" ixy="0.0" ixz="0.0" iyy="0.0" iyz="0.0" izz="0.0" />
  </inertial>
  <visual>
   <origin xyz="0 0 0"/>
   <geometry>
    <mesh filename="package://herbi_gazebo_worlds/ros/meshes/maizeplant.dae"/>
   </geometry>
  </visual>
  <collision>
   <origin xyz="0 0 0.2"/>
   <geometry>
    <cylinder length="0.4" radius="0.02"/>
   </geometry>
  </collision>
 </link>

 <joint name="joint_plant_75" type="fixed">
  <origin xyz="2.964828 -0.219736 0.000000" rpy="0.000000 0.000000 0.140492" />
  <parent link="dummy_link" />
  <child link="plant_75" />
 </joint>


 <link name="plant_76">
  <inertial>
   <origin xyz="0 0 0" /> 
   <mass value="5.0" />
   <inertia ixx="0.0" ixy="0.0" ixz="0.0" iyy="0.0" iyz="0.0" izz="0.0" />
  </inertial>
  <visual>
   <origin xyz="0 0 0"/>
   <geometry>
    <mesh filename="package://herbi_gazebo_worlds/ros/meshes/maizeplant.dae"/>
   </geometry>
  </visual>
  <collision>
   <origin xyz="0 0 0.2"/>
   <geometry>
    <cylinder length="0.4" radius="0.02"/>
   </geometry>
  </collision>
 </link>

 <joint name="joint_plant_76" type="fixed">
  <origin xyz="3.014508 -1.030886 0.000000" rpy="0.000000 0.000000 1.192493" />
  <parent link="dummy_link" />
  <child link="plant_76" />
 </joint>


 <link name="plant_77">
  <inertial>
   <origin xyz="0 0 0" /> 
   <mass value="5.0" />
   <inertia ixx="0.0" ixy="0.0" ixz="0.0" iyy="0.0" iyz="0.0" izz="0.0" />
  </inertial>
  <visual>
   <origin xyz="0 0 0"/>
   <geometry>
    <mesh filename="package://herbi_gazebo_worlds/ros/meshes/maizeplant.dae"/>
   </geometry>
  </visual>
  <collision>
   <origin xyz="0 0 0.2"/>
   <geometry>
    <cylinder length="0.4" radius="0.02"/>
   </geometry>
  </collision>
 </link>

 <joint name="joint_plant_77" type="fixed">
  <origin xyz="3.019093 -1.743556 0.000000" rpy="0.000000 0.000000 2.644716" />
  <parent link="dummy_link" />
  <child link="plant_77" />
 </joint>


 <link name="plant_78">
  <inertial>
   <origin xyz="0 0 0" /> 
   <mass value="5.0" />
   <inertia ixx="0.0" ixy="0.0" ixz="0.0" iyy="0.0" iyz="0.0" izz="0.0" />
  </inertial>
  <visual>
   <origin xyz="0 0 0"/>
   <geometry>
    <mesh filename="package://herbi_gazebo_worlds/ros/meshes/maizeplant.dae"/>
   </geometry>
  </visual>
  <collision>
   <origin xyz="0 0 0.2"/>
   <geometry>
    <cylinder length="0.4" radius="0.02"/>
   </geometry>
  </collision>
 </link>

 <joint name="joint_plant_78" type="fixed">
  <origin xyz="3.019326 -2.505324 0.000000" rpy="0.000000 0.000000 2.647808" />
  <parent link="dummy_link" />
  <child link="plant_78" />
 </joint>




</robot>
